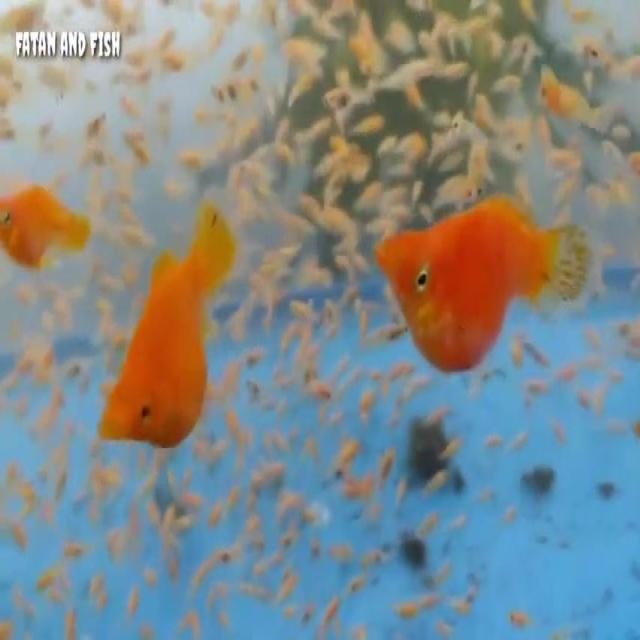PlatyFish: (368, 180, 597, 383), (92, 192, 238, 460)
